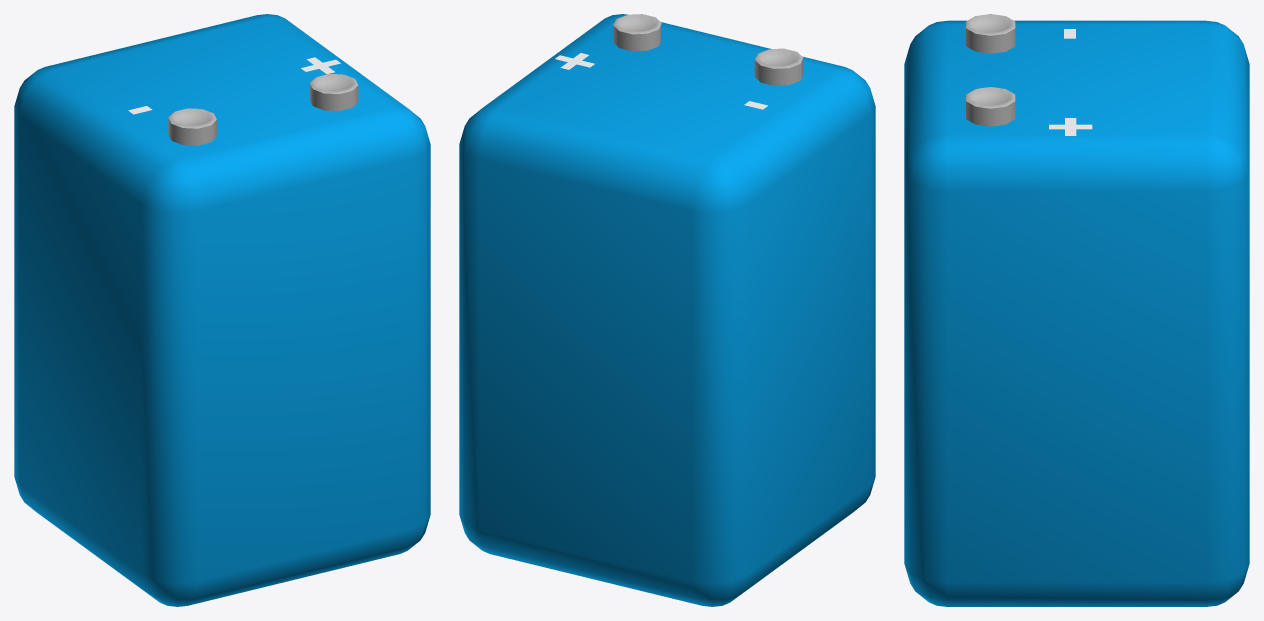
Rendered from battery.fbx.
3 renders of one model, left to right at view 1: azimuth 30°, elevation 25°; view 2: azimuth 150°, elevation 25°; view 3: azimuth 270°, elevation 25°, orthographic. The views are drawn at different scales.
Visible parts, largest first — view 1: battery, pos, neg; view 2: battery, neg, pos; view 3: battery, neg, pos.
Boxes of the visible parts, bbox=[...] form: battery: bbox=[14, 14, 430, 606]; pos: bbox=[309, 74, 358, 110]; neg: bbox=[168, 108, 216, 145]; battery: bbox=[459, 14, 875, 606]; neg: bbox=[754, 48, 803, 85]; pos: bbox=[613, 14, 661, 51]; battery: bbox=[904, 20, 1249, 606]; neg: bbox=[966, 14, 1015, 53]; pos: bbox=[966, 87, 1015, 126].
Size of the model in its own units: 400 by 625 by 400.
